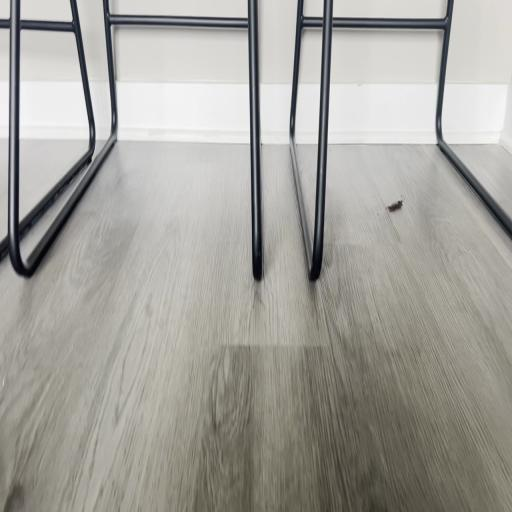cockroach: (385, 194, 405, 213)
